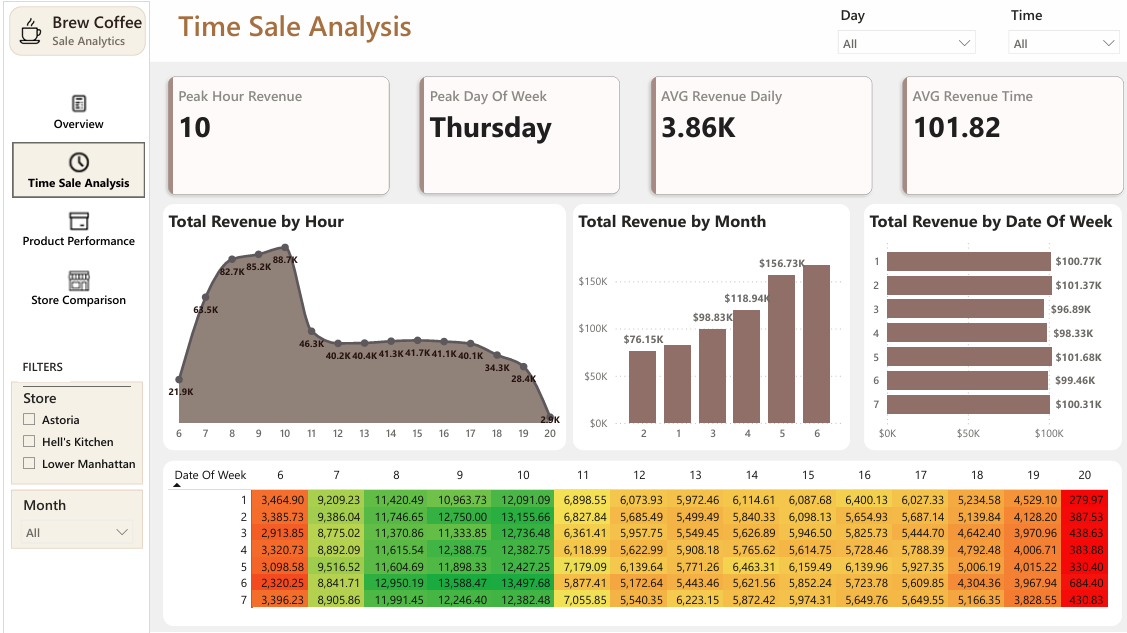

This screenshot's page, from the dashboard's own definition file:
{"tool":"powerbi","page":{"name":"Time Sale Analysis","canvas":[1280,720],"ordinal":1},"visuals":[{"type":"shape","box":[0,0,167.3,720.3],"z":0},{"type":"shape","box":[6.5,5.8,155,55.8],"z":0,"group":"g2"},{"type":"textbox","box":[50.6,5.8,116.7,58.7],"z":1000,"group":"g2"},{"type":"cardVisual","fields":{"Data":["Measure (2).Peak Hour"]},"box":[182,80,263,146],"z":1000},{"type":"slicer","title":"Category","fields":{"Values":["fact_sales.transaction_time"]},"box":[1132.9,0,147.1,67.3],"z":2000},{"type":"image","box":[5.7,17.3,49,32.7],"z":2000,"group":"g2"},{"type":"cardVisual","fields":{"Data":["Measure (2).AVG_Revenue_Daily"]},"box":[730.8,80,263,146],"z":3000},{"type":"group","id":"g1","title":"Group 3","box":[1017.2,80,262.8,146.4],"z":4000},{"type":"cardVisual","fields":{"Data":["Measure (2).AVG_Revenue_Time"]},"box":[1017.2,80,262.5,146.2],"z":4000,"group":"g1"},{"type":"lineChart","title":"Total Revenue by Hour","fields":{"Category":["fact_sales.transaction_time"],"Y":["Measure (2).Total Revenue"]},"box":[182,231,458,280],"z":5000},{"type":"pivotTable","fields":{"Values":["Measure (2).Total Revenue"],"Columns":["fact_sales.transaction_time"],"Rows":["fact_sales.Date Of Week"]},"box":[182,523,1090,188],"z":6000},{"type":"barChart","fields":{"Category":["fact_sales.Date Of Week"],"Y":["Measure (2).Total Revenue"]},"box":[979,231,293,280],"z":7000},{"type":"slicer","title":"Category","fields":{"Values":["dim_date.day"]},"box":[939.2,0,176.9,67.3],"z":8000},{"type":"columnChart","title":"Total Revenue by Month","fields":{"Y":["Measure (2).Total Revenue"],"Category":["dim_date.month"]},"box":[648,231,315,280],"z":9000},{"type":"actionButton","box":[10.6,94.2,150,62],"z":10000},{"type":"actionButton","box":[10.6,161.1,150,62],"z":11000},{"type":"actionButton","box":[10.6,227.9,150,62.5],"z":12000},{"type":"actionButton","box":[10.6,295.2,150,62],"z":13000},{"type":"group","id":"g2","title":"Group 1","box":[5.7,5.8,161.6,58.7],"z":14000},{"type":"slicer","title":"Category","fields":{"Values":["dim_store.store_location"]},"box":[9,432.9,150,117.3],"z":15000},{"type":"slicer","title":"Month","fields":{"Values":["dim_date.month"]},"box":[9,556,150,67.3],"z":16000},{"type":"textbox","box":[17,402,58,31],"z":17000},{"type":"textbox","box":[194,0,330,62],"z":18000},{"type":"cardVisual","fields":{"Data":["Measure (2).Peak Day Of Week"]},"box":[468.5,80,239,145],"z":19000}]}

Visuals, with their boxes on the page's 1280x720 design canvas (x1, y1, x2, y2). These are canvas units, not pixel positions in the 1127x633 screenshot, which may show the page scaled, cropped or inside an application window:
shape: box=[0, 0, 167, 720]
shape: box=[6, 6, 162, 62]
textbox: box=[51, 6, 167, 64]
cardVisual - Measure (2).Peak Hour: box=[182, 80, 445, 226]
"Category" slicer: box=[1133, 0, 1280, 67]
image: box=[6, 17, 55, 50]
cardVisual - Measure (2).AVG_Revenue_Daily: box=[731, 80, 994, 226]
"Group 3" group: box=[1017, 80, 1280, 226]
cardVisual - Measure (2).AVG_Revenue_Time: box=[1017, 80, 1280, 226]
"Total Revenue by Hour" lineChart: box=[182, 231, 640, 511]
pivotTable - Measure (2).Total Revenue x fact_sales.transaction_time: box=[182, 523, 1272, 711]
barChart - fact_sales.Date Of Week x Measure (2).Total Revenue: box=[979, 231, 1272, 511]
"Category" slicer: box=[939, 0, 1116, 67]
"Total Revenue by Month" columnChart: box=[648, 231, 963, 511]
actionButton: box=[11, 94, 161, 156]
actionButton: box=[11, 161, 161, 223]
actionButton: box=[11, 228, 161, 290]
actionButton: box=[11, 295, 161, 357]
"Group 1" group: box=[6, 6, 167, 64]
"Category" slicer: box=[9, 433, 159, 550]
"Month" slicer: box=[9, 556, 159, 623]
textbox: box=[17, 402, 75, 433]
textbox: box=[194, 0, 524, 62]
cardVisual - Measure (2).Peak Day Of Week: box=[468, 80, 708, 225]
